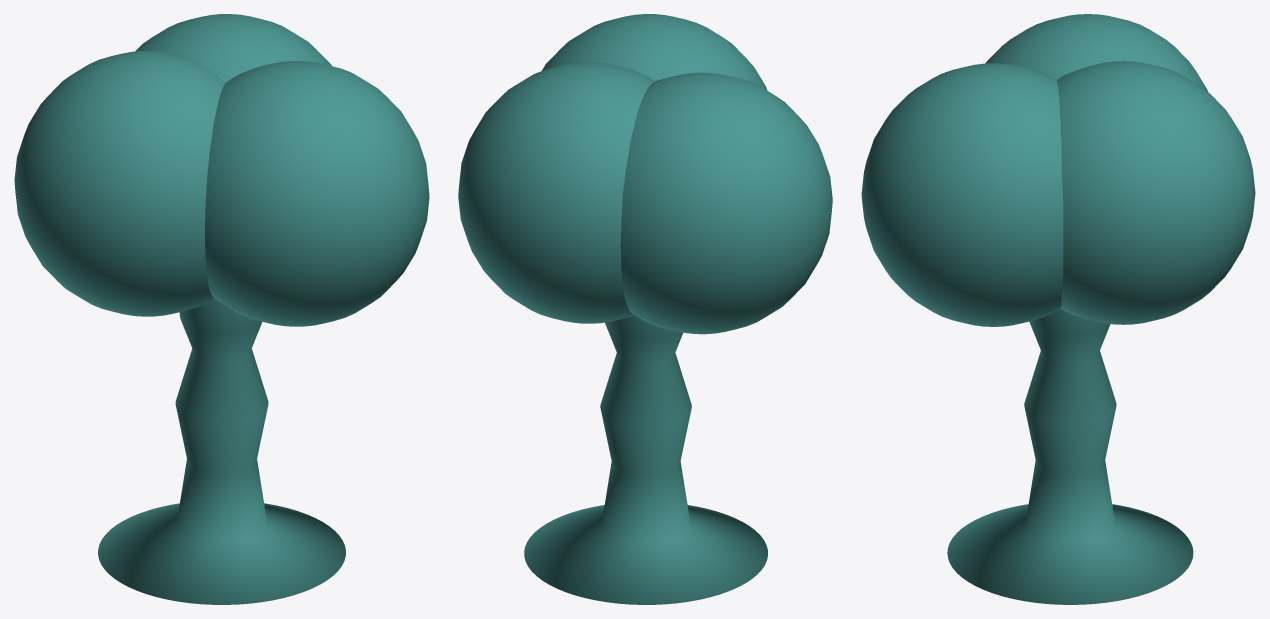
File: Arvore.fbx
3 renders of one model, left to right at view 1: azimuth 30°, elevation 25°; view 2: azimuth 150°, elevation 25°; view 3: azimuth 270°, elevation 25°, orthographic.
Parts seen in each view (by area): view 1: Sphere.006, Sphere.005, Cylinder.033, Sphere.007; view 2: Sphere.005, Sphere.007, Cylinder.033, Sphere.006; view 3: Sphere.006, Sphere.007, Cylinder.033, Sphere.005.
Boxes of the visible parts, bbox=[...] form: Sphere.006: bbox=[205, 61, 429, 326]; Sphere.005: bbox=[14, 51, 225, 316]; Cylinder.033: bbox=[98, 298, 345, 604]; Sphere.007: bbox=[135, 14, 331, 82]; Sphere.005: bbox=[620, 72, 832, 334]; Sphere.007: bbox=[458, 62, 654, 323]; Cylinder.033: bbox=[524, 315, 767, 604]; Sphere.006: bbox=[542, 14, 767, 90]; Sphere.006: bbox=[861, 63, 1063, 326]; Sphere.007: bbox=[1057, 61, 1255, 324]; Cylinder.033: bbox=[947, 308, 1193, 604]; Sphere.005: bbox=[985, 14, 1207, 91].
Bounding box in the file's own units: 496 × 712 × 514.
